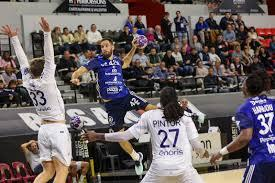ballon_handball: (132, 34, 149, 49)
